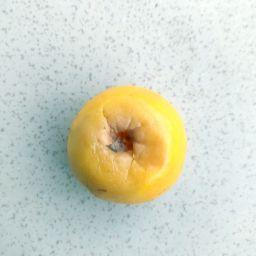Unripe: (67, 89, 186, 202)
